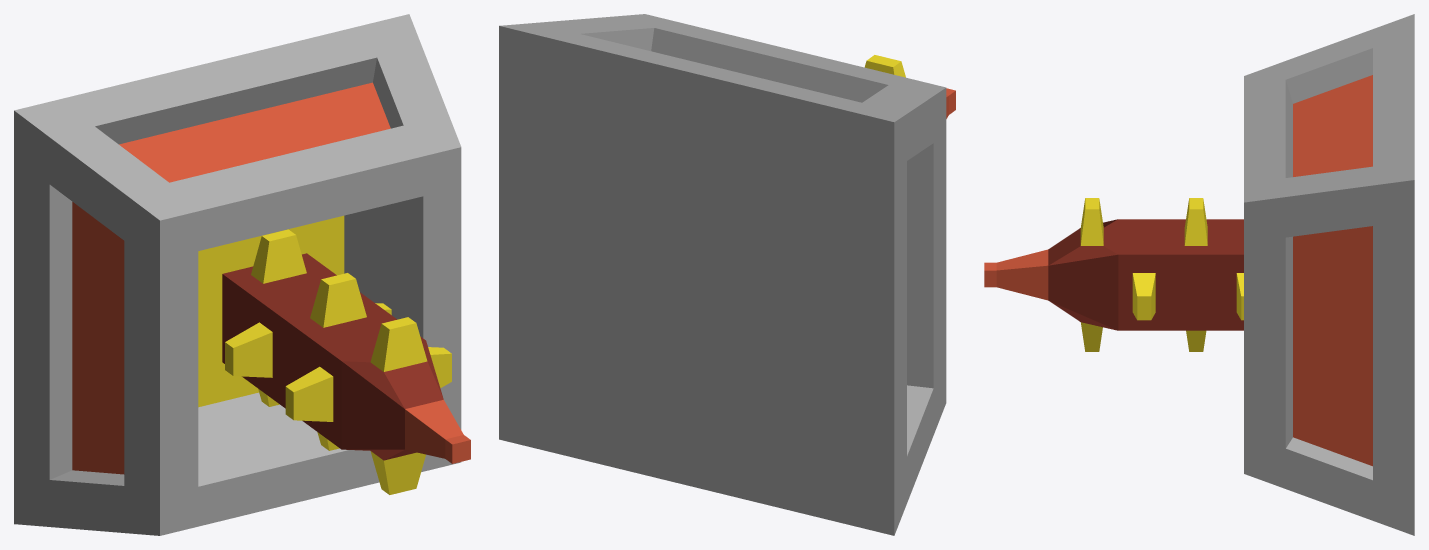
Rendered from laerBox.glb.
3 renders of one model, left to right at view 1: azimuth 30°, elevation 25°; view 2: azimuth 150°, elevation 25°; view 3: azimuth 270°, elevation 25°, orthographic. The views are drawn at different scales.
Visible parts, largest first — view 1: Cube; view 2: Cube; view 3: Cube.
Boxes of the visible parts, x1,y1,x2,y2 form: Cube: (14,14,470,535); Cube: (499,14,955,535); Cube: (984,14,1414,535).
Size of the model in its own units: 5.3 by 5.3 by 5.8.
1 material, 1 textured.
